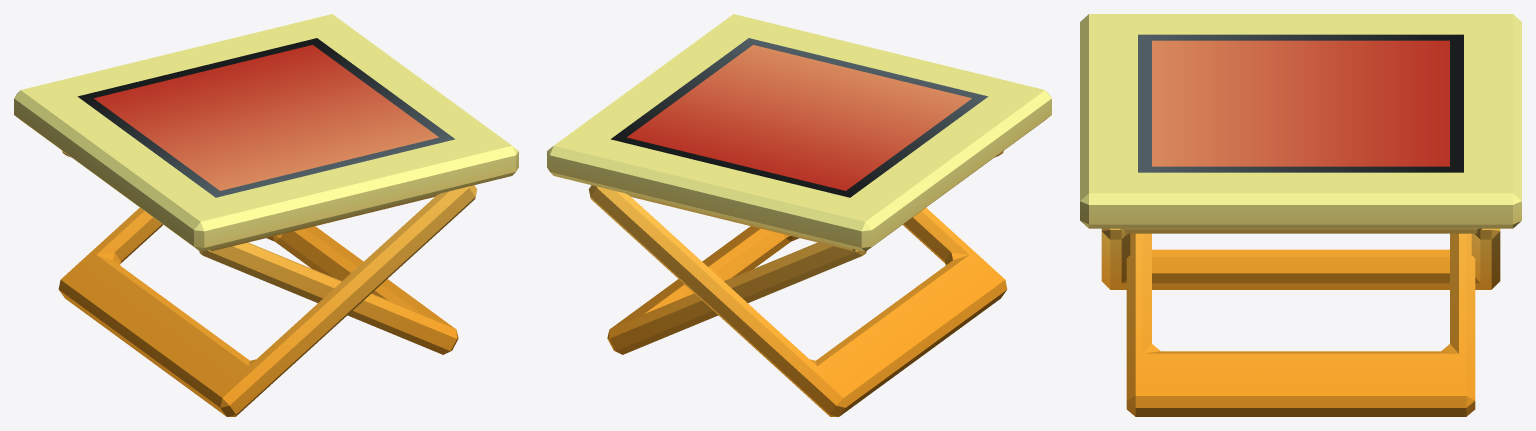
Rendered from Foldable Table.glb.
The picture shows the model from 3 angles, left to right: view 1: azimuth 30°, elevation 25°; view 2: azimuth 150°, elevation 25°; view 3: azimuth 270°, elevation 25°; orthographic projection. The views are drawn at different scales.
Visible parts, largest first — view 1: Foldable Table; view 2: Foldable Table; view 3: Foldable Table.
Boxes of the visible parts, x1,y1,x2,y2 form: Foldable Table: [14, 14, 518, 416]; Foldable Table: [547, 14, 1051, 416]; Foldable Table: [1080, 14, 1521, 416].
Size of the model in its own units: 2 by 1.25 by 2.
Materials: 1 (1 with a texture image).
